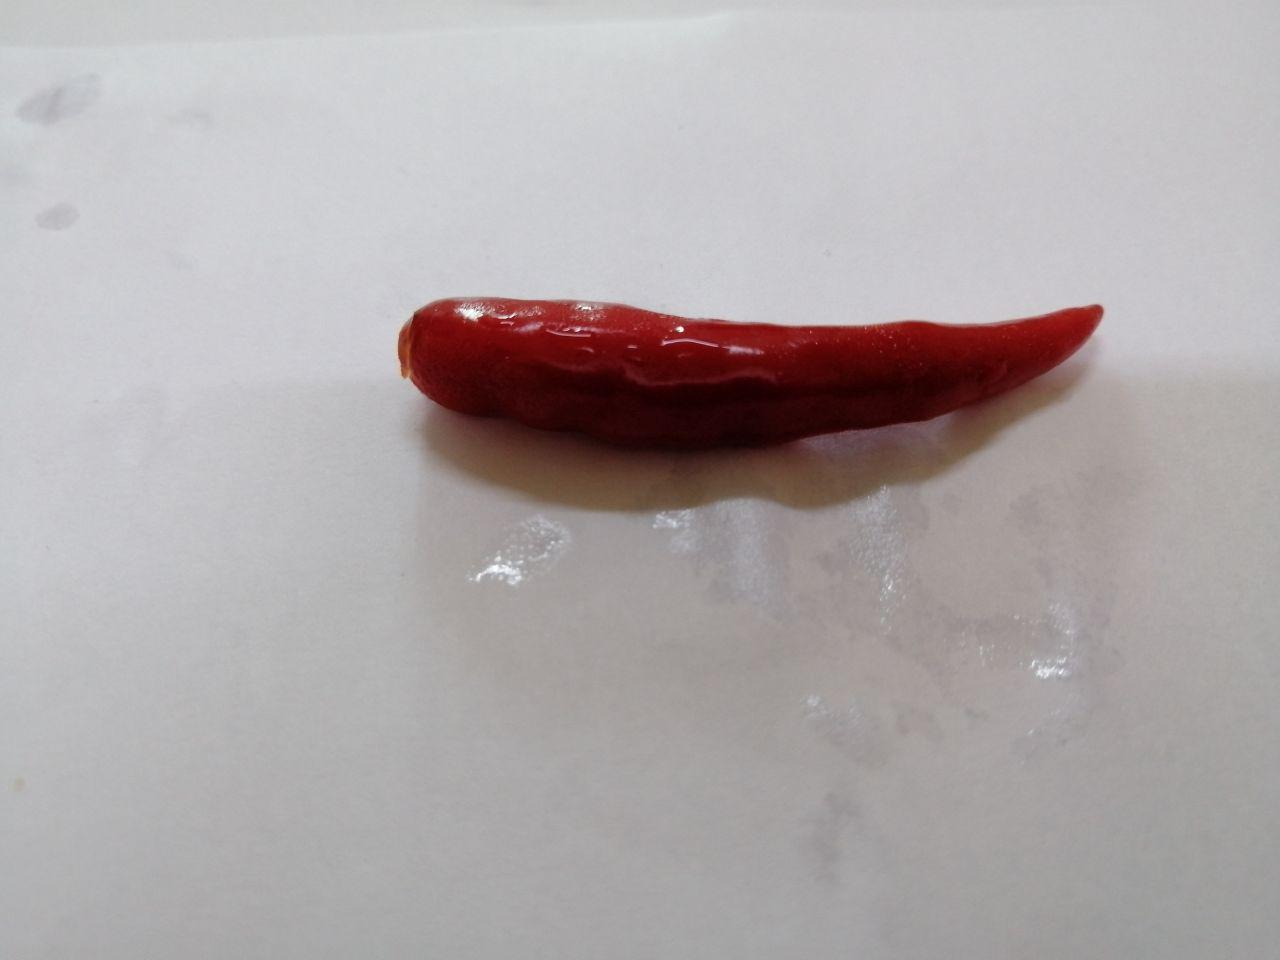lada merah: (371, 277, 1130, 471)
